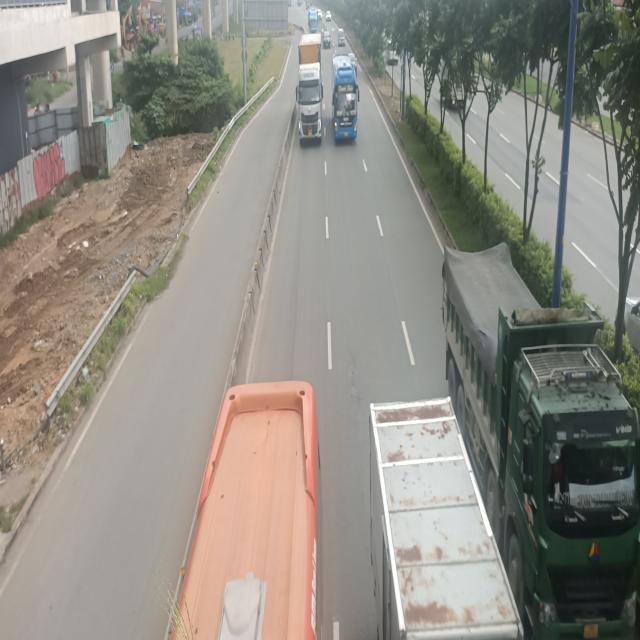coach: (163, 382, 322, 640), (332, 53, 359, 143)
container: (443, 240, 640, 640), (294, 32, 323, 143)
truck: (366, 401, 542, 640)
